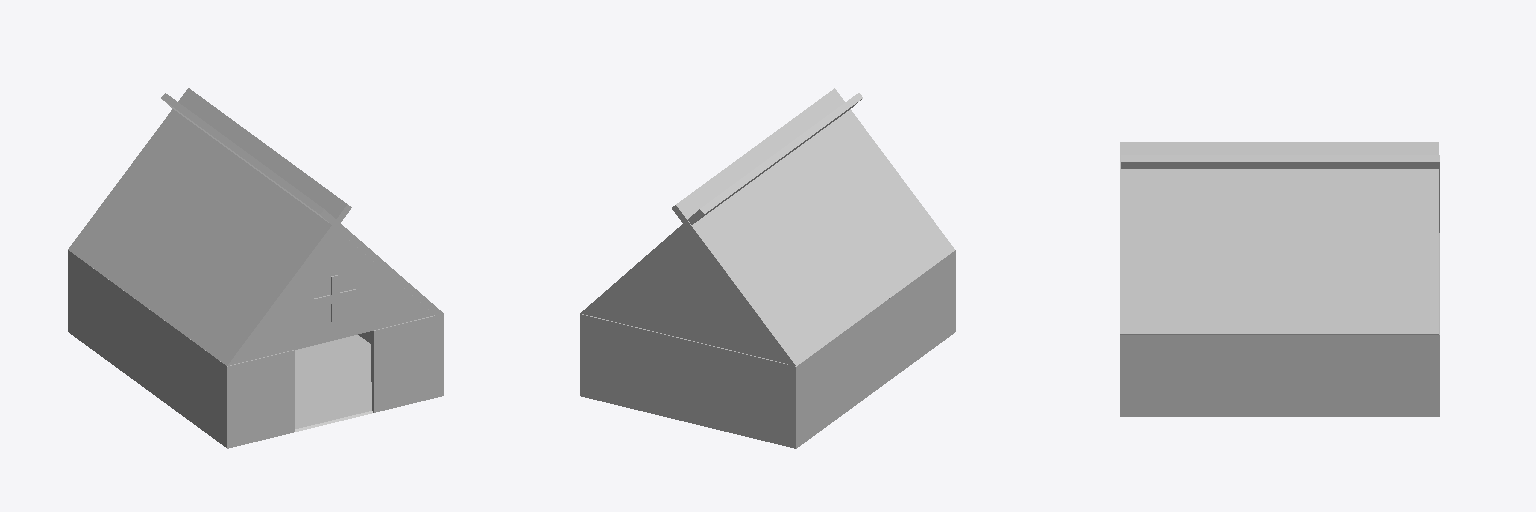
Rendered from medTent.obj.
3 renders of one model, left to right at view 1: azimuth 30°, elevation 25°; view 2: azimuth 150°, elevation 25°; view 3: azimuth 270°, elevation 25°, orthographic.
Parts seen in each view (by area): view 1: Cube.001, Cube, Cube.002; view 2: Cube.001, Cube, Cube.002; view 3: Cube.002, Cube, Cube.001.
Part boxes in pixels (left/top/right/bottom): Cube.001: left=68, top=88, right=433, bottom=365; Cube: left=68, top=250, right=443, bottom=448; Cube.002: left=161, top=93, right=443, bottom=315; Cube.001: left=672, top=88, right=954, bottom=366; Cube: left=580, top=250, right=955, bottom=448; Cube.002: left=580, top=93, right=862, bottom=363; Cube.002: left=1120, top=142, right=1438, bottom=334; Cube: left=1120, top=233, right=1439, bottom=416; Cube.001: left=1121, top=155, right=1439, bottom=232.
Bounding box in the file's own units: 6.71 × 6.39 × 8.59.